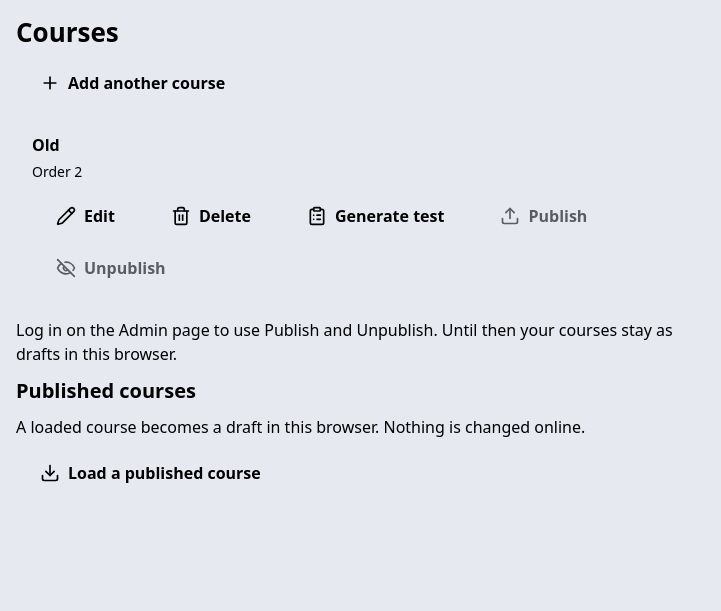
Test case: CourseManager add and edit › edits a saved course and keeps its id, cover and blocks
This screenshot has width=721, height=611.
Expected: the text "Old" is shown, [32,134,60,156]
Click the button "Edit" at [85, 216], box [32,194,139,238]
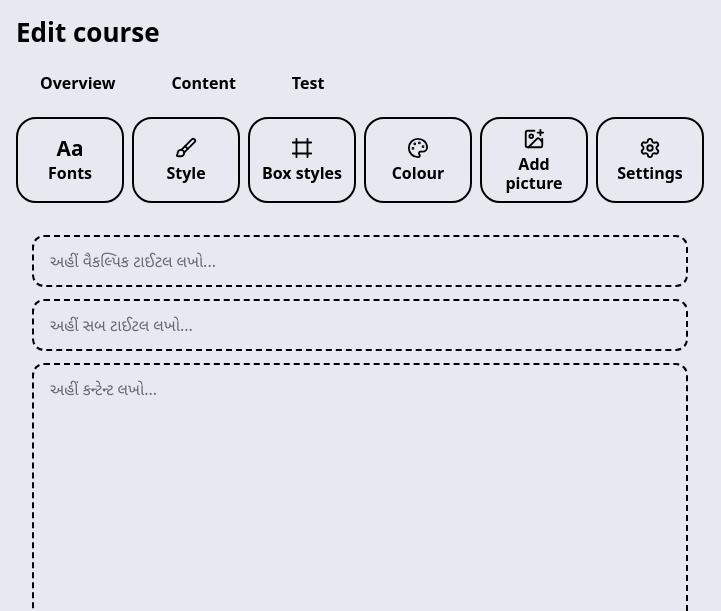
Expected: the heading "Edit course" is shown, [16,14,160,50]
Click the button "Settings" at [650, 160], box [596,116,704,203]
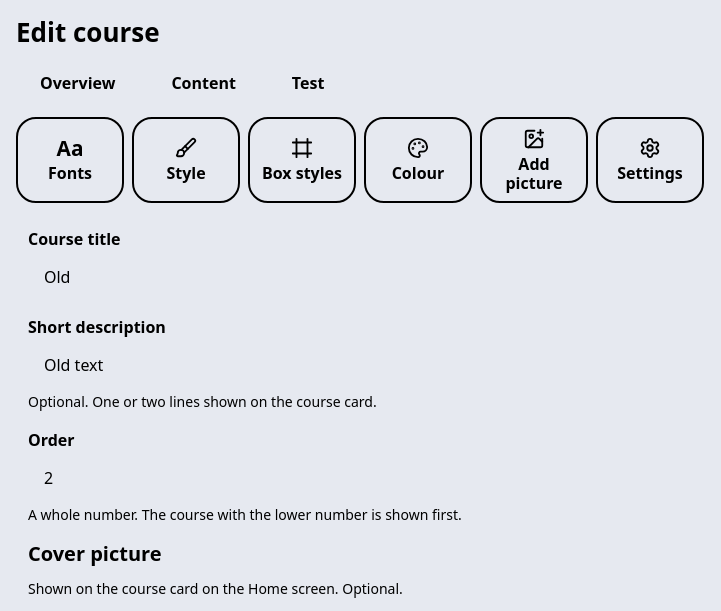
Expected: the field labelled "Course title" holds "Old"
Expected: the field labelled "Short description" holds "Old text", [28,343,692,387]
Expected: the field labelled "Order" holds "2", [28,456,692,500]
Replace the text in the field labelled "Course title" with "New" at [360, 277], box [28,255,692,299]
(page scrolled)
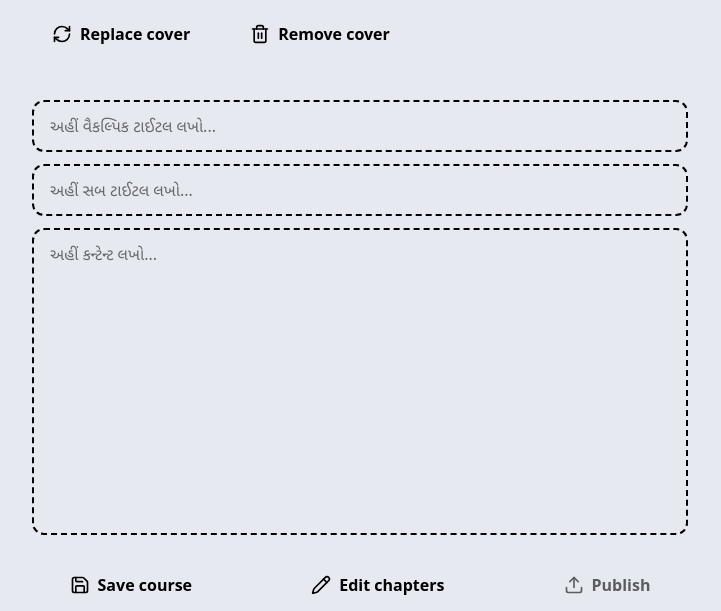
Click the button "Save course" at [131, 585], box [16,563,246,607]
(page scrolled)
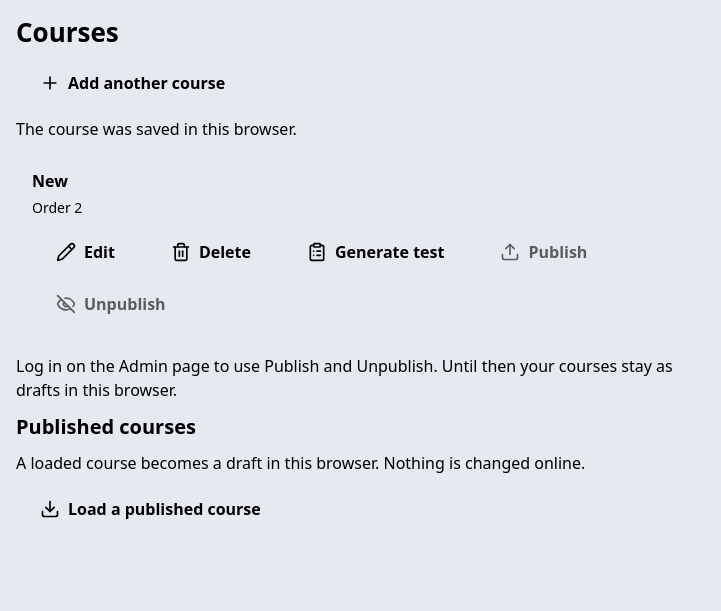
Expected: the text "New" is shown, [32,170,68,192]
